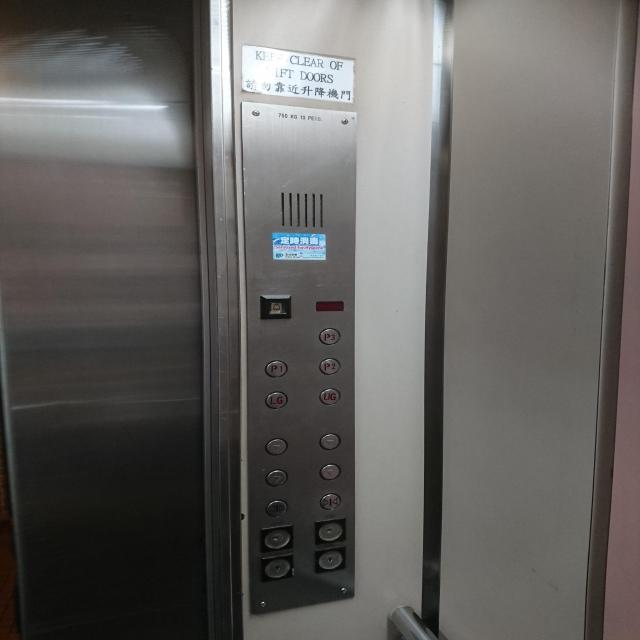LG: (265, 391, 288, 409)
P1: (265, 359, 288, 378)
P2: (318, 357, 341, 376)
P3: (319, 327, 341, 346)
UG: (319, 388, 341, 406)
alarm: (258, 293, 293, 320)
close: (319, 492, 341, 511)
down: (265, 468, 288, 488), (319, 431, 341, 451), (319, 462, 342, 481), (265, 438, 288, 456)
keyhole: (259, 524, 293, 551), (313, 547, 346, 574), (261, 554, 295, 580), (314, 518, 346, 544)
open: (265, 499, 287, 518)
